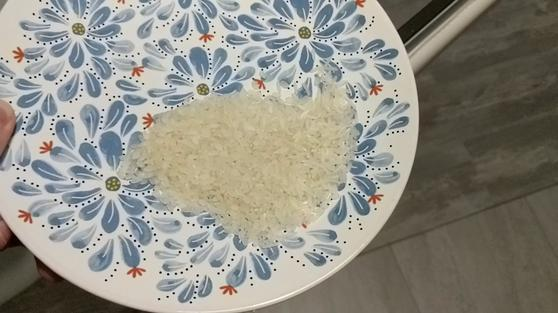rice: (113, 69, 371, 248)
